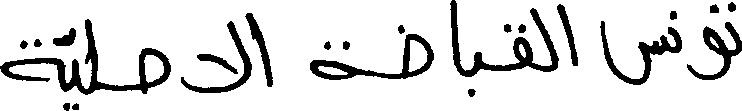X: (181, 8, 247, 97), (601, 16, 666, 89), (0, 33, 61, 93), (309, 36, 352, 84), (249, 8, 273, 91), (402, 20, 432, 83), (703, 0, 725, 84), (533, 3, 556, 76), (138, 43, 168, 98), (558, 0, 577, 70), (513, 4, 531, 74), (85, 14, 99, 99), (728, 0, 741, 74), (450, 0, 458, 76), (73, 23, 79, 110), (670, 6, 680, 57), (473, 47, 482, 100)
